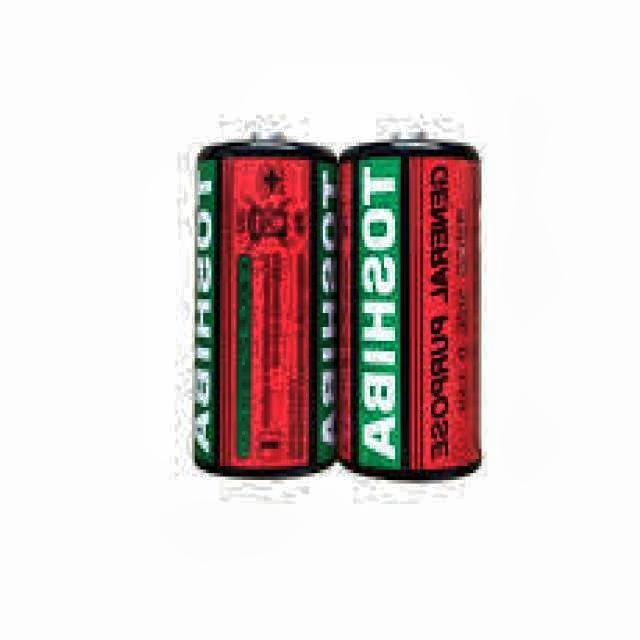battery: (336, 136, 481, 480), (191, 143, 338, 480)
